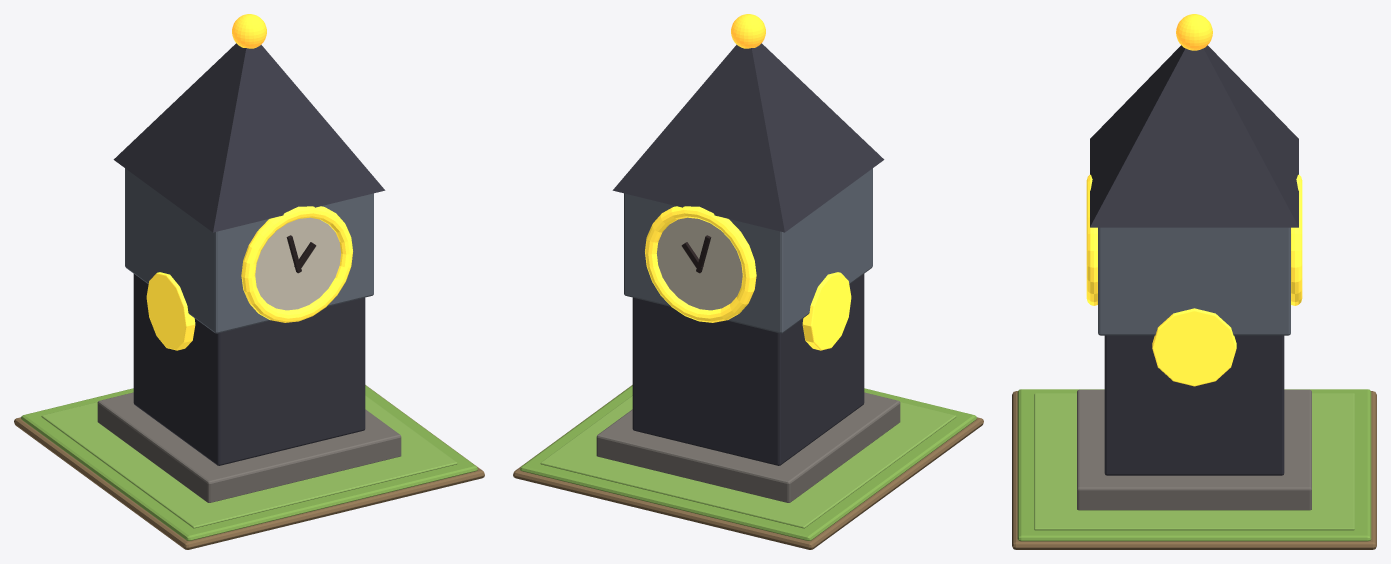
Rendered from clock_tower_lv9.glb.
3 views of the same model, side by side, from view 1: azimuth 30°, elevation 25°; view 2: azimuth 150°, elevation 25°; view 3: azimuth 270°, elevation 25° (orthographic). The views are drawn at different scales.
Visible parts, largest first — view 1: CT_LowerShaft, CT_SpireRoof, CT_UpperHousing, Base_Inner, CT_Plinth, Base_Grass, ClockDial_-1, Base_Dirt, ClockBezel_-1, CT_SideGear_-1, CT_ApexOrb; view 2: CT_LowerShaft, CT_SpireRoof, CT_UpperHousing, Base_Inner, CT_Plinth, Base_Grass, ClockDial_1, Base_Dirt, ClockBezel_1, CT_SideGear_-1, CT_ApexOrb; view 3: CT_SpireRoof, CT_LowerShaft, CT_UpperHousing, Base_Inner, CT_Plinth, Base_Grass, CT_SideGear_1, Base_Dirt, ClockBezel_1, ClockBezel_-1, CT_ApexOrb.
Part boxes in pixels (x1,y1,x2,y2): CT_LowerShaft: (133,274,365,465); CT_SpireRoof: (113,43,385,232); CT_UpperHousing: (125,168,373,333); Base_Inner: (41,395,457,528); CT_Plinth: (97,392,401,502); Base_Grass: (21,385,477,540); ClockDial_-1: (255,217,341,310); Base_Dirt: (14,385,484,549); ClockBezel_-1: (241,206,352,322); CT_SideGear_-1: (146,272,195,350); CT_ApexOrb: (232,14,266,48); CT_LowerShaft: (632,274,864,465); CT_SpireRoof: (612,43,884,232); CT_UpperHousing: (624,168,872,333); Base_Inner: (540,395,956,528); CT_Plinth: (596,392,900,502); Base_Grass: (520,385,976,540); ClockDial_1: (656,217,742,310); Base_Dirt: (513,385,983,549); ClockBezel_1: (645,206,756,322); CT_SideGear_-1: (802,272,851,350); CT_ApexOrb: (731,14,765,48); CT_SpireRoof: (1090,45,1298,227); CT_LowerShaft: (1104,335,1284,475); CT_UpperHousing: (1098,227,1290,335); Base_Inner: (1034,393,1354,530); CT_Plinth: (1077,389,1311,510); Base_Grass: (1017,389,1371,541); CT_SideGear_1: (1152,308,1236,386); Base_Dirt: (1012,391,1376,549); ClockBezel_1: (1291,174,1302,305); ClockBezel_-1: (1086,174,1097,305); CT_ApexOrb: (1176,14,1212,50).
Size of the model in its own units: 2.76 by 3.83 by 2.76.
